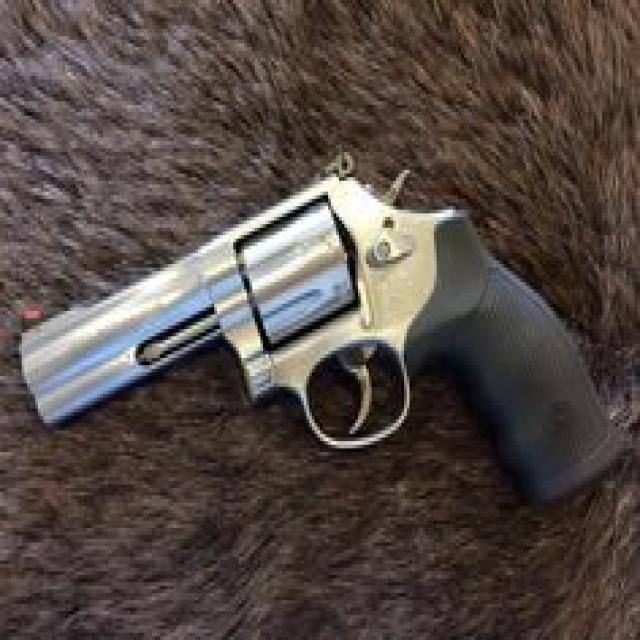revolver: (6, 132, 640, 536), (2, 133, 640, 531), (0, 18, 158, 210)
